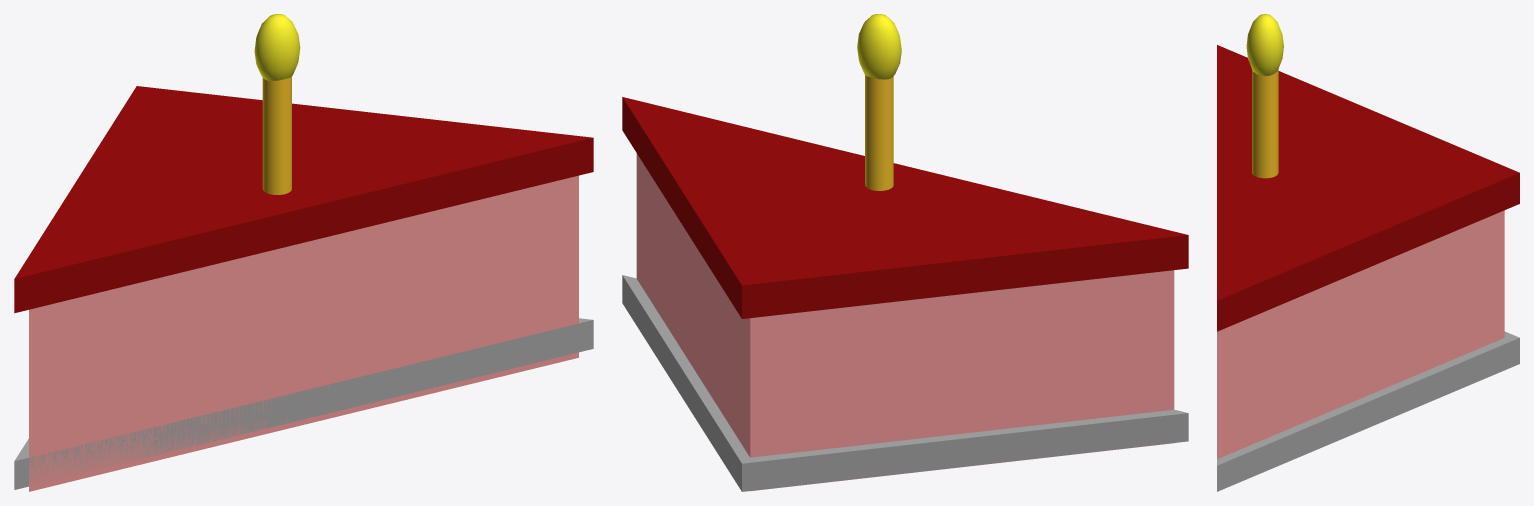
File: CMU3DBakedCakeBirthdaySlice.glb
The picture shows the model from 3 angles, left to right: view 1: azimuth 30°, elevation 25°; view 2: azimuth 150°, elevation 25°; view 3: azimuth 270°, elevation 25°; orthographic projection. The views are drawn at different scales.
Visible parts, largest first — view 1: white sponge slice, red frosting slice, white lower icing edge, single birthday candle wax, single birthday candle static source flame; view 2: white sponge slice, red frosting slice, white lower icing edge, single birthday candle wax, single birthday candle static source flame; view 3: red frosting slice, white sponge slice, white lower icing edge, single birthday candle wax, single birthday candle static source flame.
Part boxes in pixels (x1,y1,x2,y2): white sponge slice: (29, 175, 578, 491); red frosting slice: (14, 86, 593, 313); white lower icing edge: (14, 318, 593, 489); single birthday candle wax: (262, 76, 291, 194); single birthday candle static source flame: (254, 14, 300, 80); white sponge slice: (636, 153, 1174, 491); red frosting slice: (622, 97, 1188, 318); white lower icing edge: (622, 275, 1188, 491); single birthday candle wax: (865, 75, 893, 190); single birthday candle static source flame: (857, 14, 901, 79); red frosting slice: (1217, 45, 1519, 331); white sponge slice: (1217, 210, 1504, 459); white lower icing edge: (1217, 331, 1519, 491); single birthday candle wax: (1252, 69, 1278, 178); single birthday candle static source flame: (1246, 14, 1283, 76).
Size of the model in its own units: 0.5657 by 0.3645 by 0.2828.
